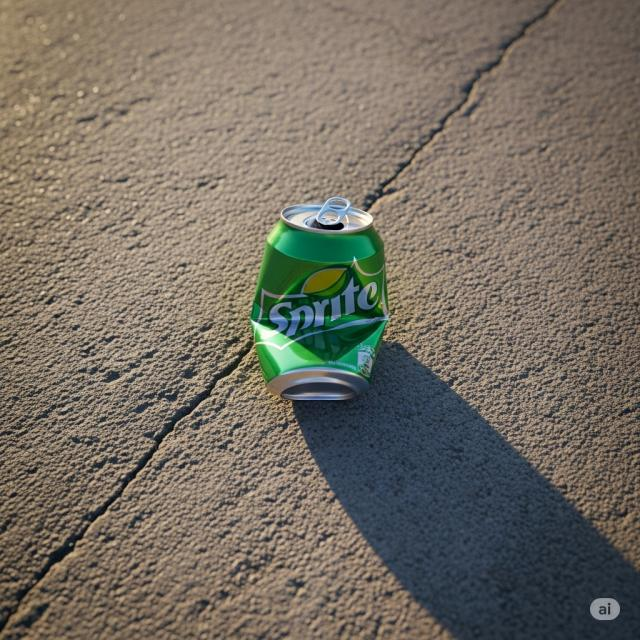aluminum: (250, 192, 393, 404)
